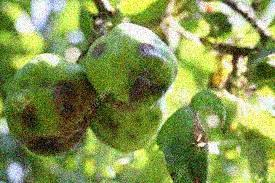rotten apple: (4, 54, 97, 163), (82, 22, 184, 113)
